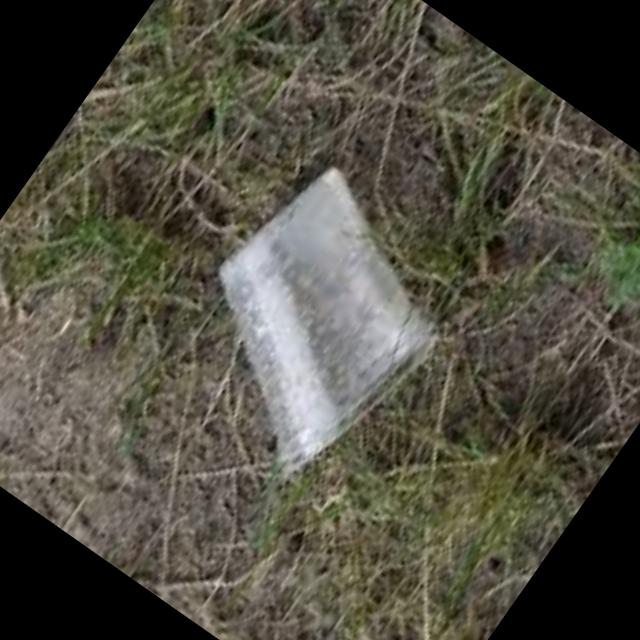GelasPlastik: (138, 143, 488, 508)
